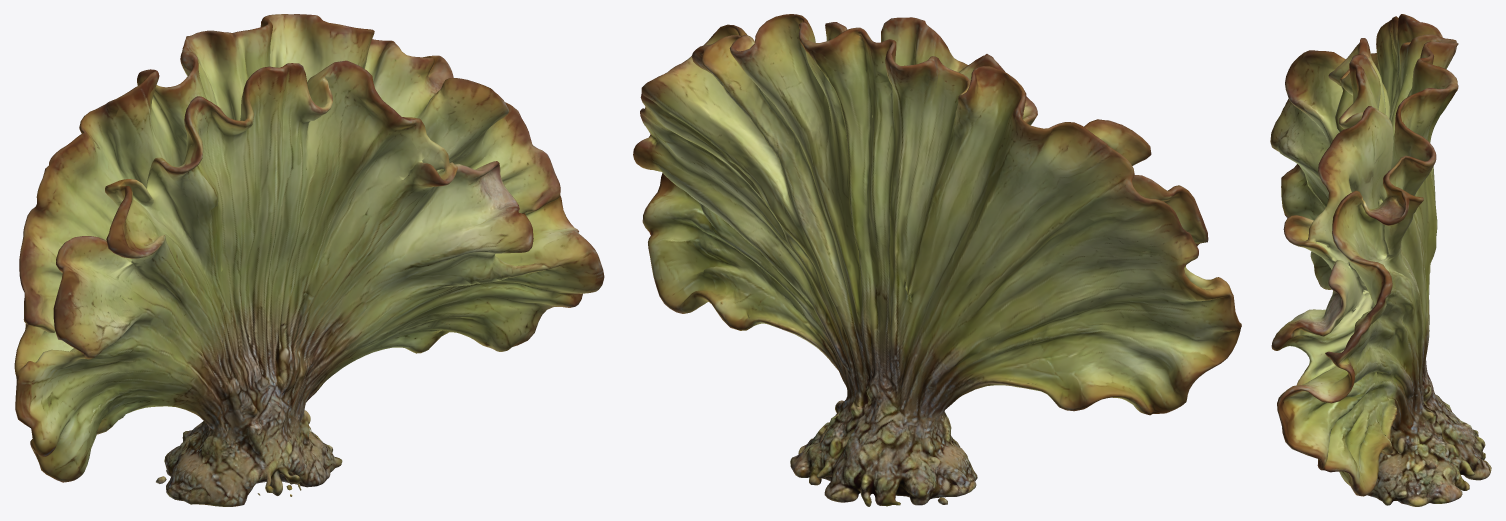
The model's file is fanweed.glb.
3 views of the same model, side by side, from view 1: azimuth 30°, elevation 25°; view 2: azimuth 150°, elevation 25°; view 3: azimuth 270°, elevation 25° (orthographic). The views are drawn at different scales.
Parts seen in each view (by area): view 1: model; view 2: model; view 3: model.
Boxes of the visible parts, x1=… form: model: x1=14, y1=14, x2=604, y2=506; model: x1=633, y1=14, x2=1241, y2=506; model: x1=1270, y1=14, x2=1491, y2=506.
Bounding box in the file's own units: 1.88 × 1.37 × 0.6505.
1 material, 1 textured.
